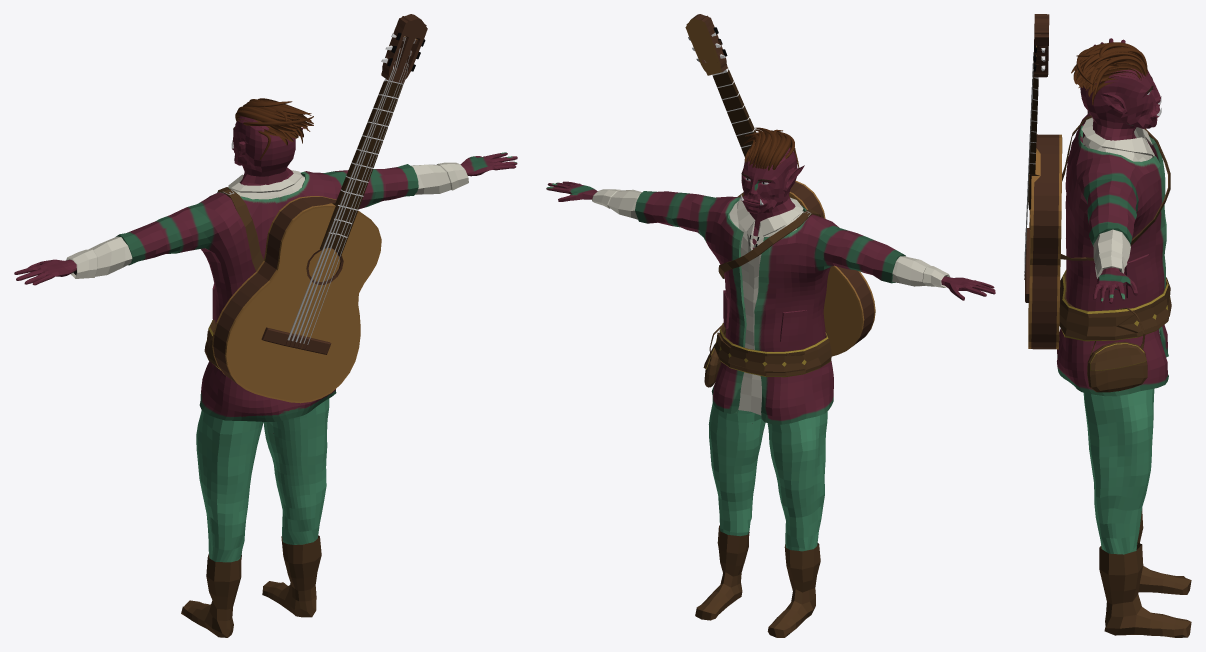
The model's file is bardorc.fbx.
3 views of the same model, side by side, from view 1: azimuth 30°, elevation 25°; view 2: azimuth 150°, elevation 25°; view 3: azimuth 270°, elevation 25° (orthographic). The views are drawn at different scales.
Parts seen in each view (by area): view 1: guitar, coat, pants, boots, body, shirt; view 2: coat, pants, guitar, shirt, boots, body, belt; view 3: coat, guitar, pants, boots, body, belt, shirt, bag, NurbsPath.001, NurbsPath.009, NurbsPath.007, NurbsPath.005.
Part boxes in pixels (<box>): guitar: <box>212,14,427,403</box>; coat: <box>116,164,418,421</box>; pants: <box>196,398,329,562</box>; boots: <box>181,535,321,637</box>; body: <box>14,116,517,433</box>; shirt: <box>66,162,468,278</box>; coat: <box>635,191,905,424</box>; pants: <box>708,402,827,551</box>; guitar: <box>685,14,875,356</box>; shirt: <box>592,189,949,415</box>; boots: <box>695,525,820,637</box>; body: <box>546,147,995,433</box>; belt: <box>714,323,831,377</box>; coat: <box>1057,111,1168,396</box>; guitar: <box>1024,14,1170,349</box>; pants: <box>1083,388,1154,554</box>; boots: <box>1099,508,1191,637</box>; body: <box>1080,38,1161,303</box>; belt: <box>1059,269,1171,341</box>; shirt: <box>1081,117,1160,335</box>; bag: <box>1087,307,1147,392</box>; NurbsPath.001: <box>1082,48,1147,72</box>; NurbsPath.009: <box>1094,59,1145,94</box>; NurbsPath.007: <box>1093,55,1146,82</box>; NurbsPath.005: <box>1087,51,1147,74</box>.
Size of the model in its own units: 191 by 222 by 51.27.
Materials: 16 (2 with a texture image).
